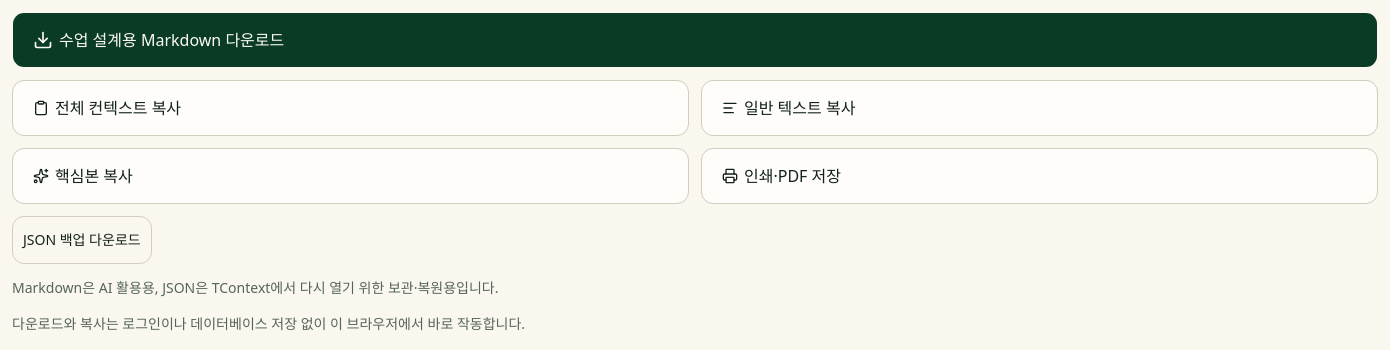
Test case: keeps copy success visible if optional record keeping throws
Click the button "핵심본 복사" at point(94, 176), box x1=12 y1=148 x2=689 y2=204
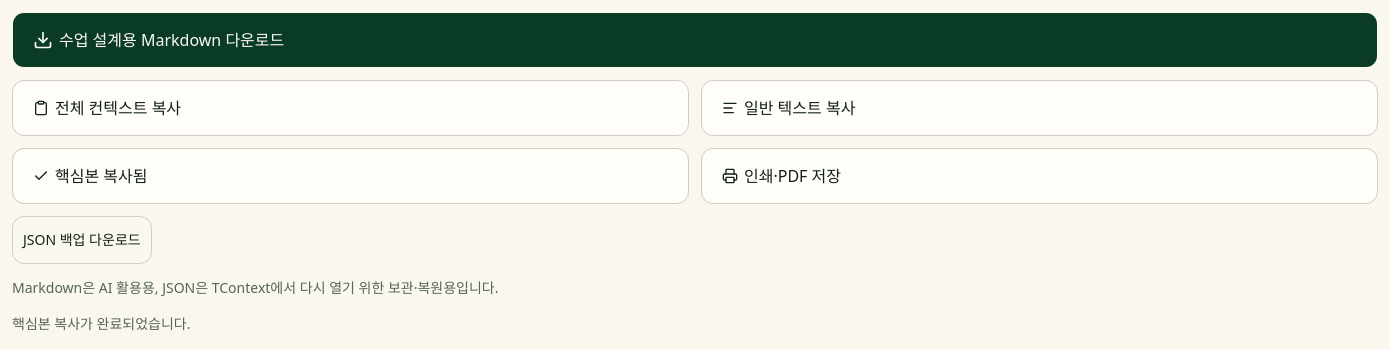
Now the text "핵심본 복사가 완료되었습니다." is shown, box x1=12 y1=314 x2=190 y2=333
